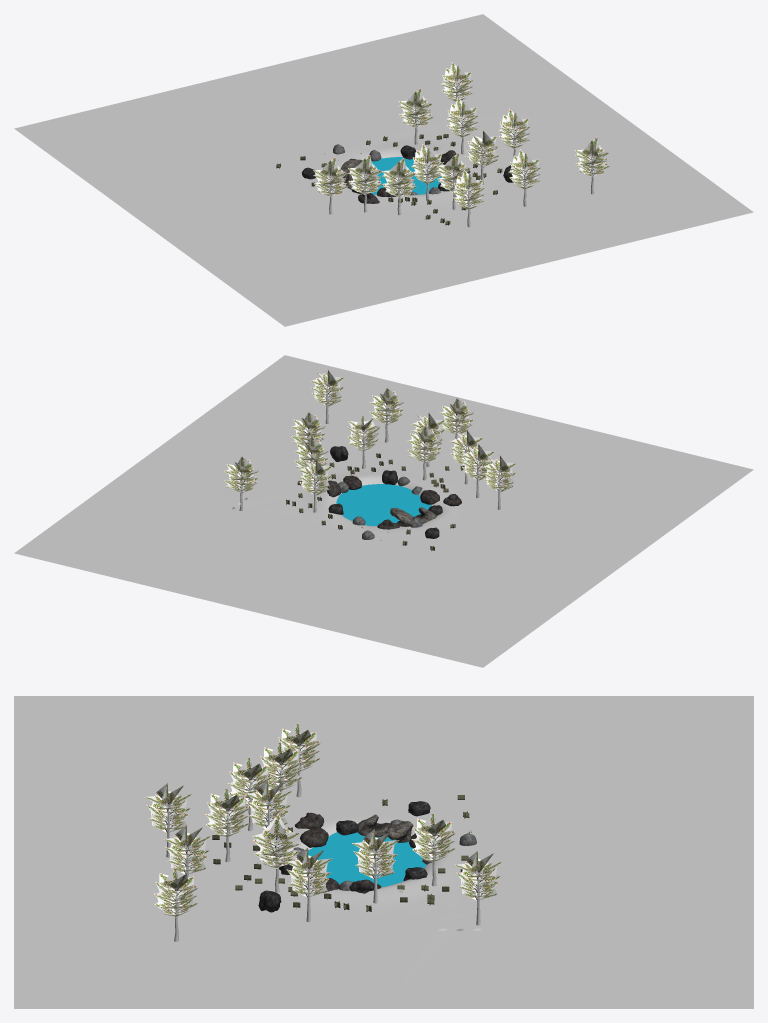
The picture shows the model from 3 angles, top to bottom: view 1: azimuth 30°, elevation 25°; view 2: azimuth 150°, elevation 25°; view 3: azimuth 270°, elevation 25°; orthographic projection. The views are drawn at different scales.
Parts seen in each view (by area): view 1: Ground, unnamed_object1_tree5, unnamed_object1_tree5_004, unnamed_object1_tree5_002, unnamed_object1_tree5_005, unnamed_object1_tree5_001, unnamed_object1_tree5_011, unnamed_object1_tree5_007, unnamed_object1_tree5_008, unnamed_object1_tree5_010, unnamed_object1_tree5_012, unnamed_object1_tree5_009 (+3 smaller); view 2: Ground, Water, unnamed_object1_tree5_011, unnamed_object1_tree5_012, unnamed_object1_tree5_009, unnamed_object1_tree5_010, unnamed_object1_tree5_005, unnamed_object1_tree5_001, unnamed_object1_tree5_004, unnamed_object1_tree5_006, unnamed_object1_tree5_002, unnamed_object1_tree5_008 (+2 smaller); view 3: Ground, Water, unnamed_object1_tree5_006, unnamed_object1_tree5_004, unnamed_object1_tree5_011, unnamed_object1_tree5_012, unnamed_object1_tree5_001, unnamed_object1_tree5_003, unnamed_object1_tree5_007, unnamed_object1_tree5_008, unnamed_object1_tree5_010, unnamed_object1_tree5_009 (+3 smaller).
Boxes of the visible parts, x1,y1,x2,y2 form: Ground: (14,14,753,326); unnamed_object1_tree5: (382,158,416,197); unnamed_object1_tree5_004: (575,137,610,176); unnamed_object1_tree5_002: (348,155,382,194); unnamed_object1_tree5_005: (313,157,348,196); unnamed_object1_tree5_001: (398,88,433,127); unnamed_object1_tree5_011: (508,149,541,189); unnamed_object1_tree5_007: (446,97,478,137); unnamed_object1_tree5_008: (498,108,530,148); unnamed_object1_tree5_010: (452,170,484,209); unnamed_object1_tree5_012: (440,62,473,101); unnamed_object1_tree5_009: (411,144,443,184); Ground: (14,355,753,667); Water: (336,484,431,526); unnamed_object1_tree5_011: (369,388,404,424); unnamed_object1_tree5_012: (224,456,258,493); unnamed_object1_tree5_009: (407,426,442,462); unnamed_object1_tree5_010: (439,398,474,434); unnamed_object1_tree5_005: (483,455,516,492); unnamed_object1_tree5_001: (298,459,331,495); unnamed_object1_tree5_004: (311,370,344,406); unnamed_object1_tree5_006: (347,414,380,450); unnamed_object1_tree5_002: (461,444,494,480); unnamed_object1_tree5_008: (291,412,325,445); Ground: (14,696,753,1008); Water: (308,832,426,887); unnamed_object1_tree5_006: (252,813,300,868); unnamed_object1_tree5_004: (154,867,198,916); unnamed_object1_tree5_011: (164,825,210,874); unnamed_object1_tree5_012: (454,851,501,900); unnamed_object1_tree5_001: (411,812,455,861); unnamed_object1_tree5_003: (205,787,249,836); unnamed_object1_tree5_007: (352,829,399,878); unnamed_object1_tree5_008: (285,847,332,897); unnamed_object1_tree5_010: (145,783,191,832); unnamed_object1_tree5_009: (245,780,292,828).
Size of the model in its own units: 20 by 20 by 3.03.
